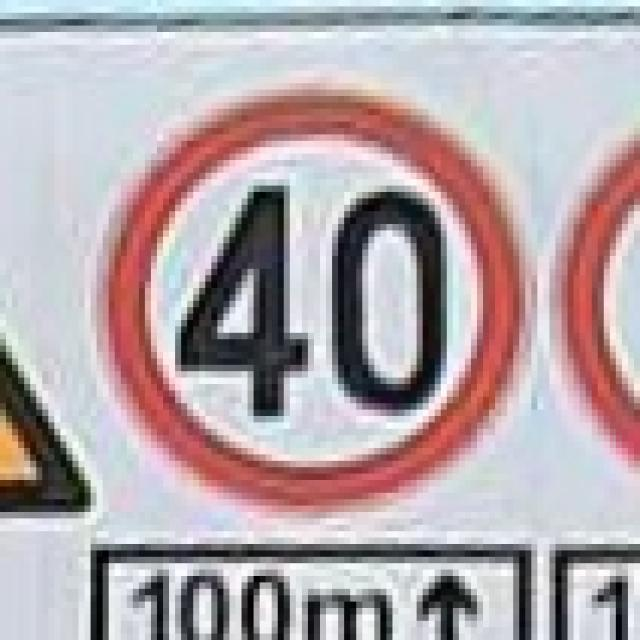Speed Limit -40-: (173, 181, 452, 423)
